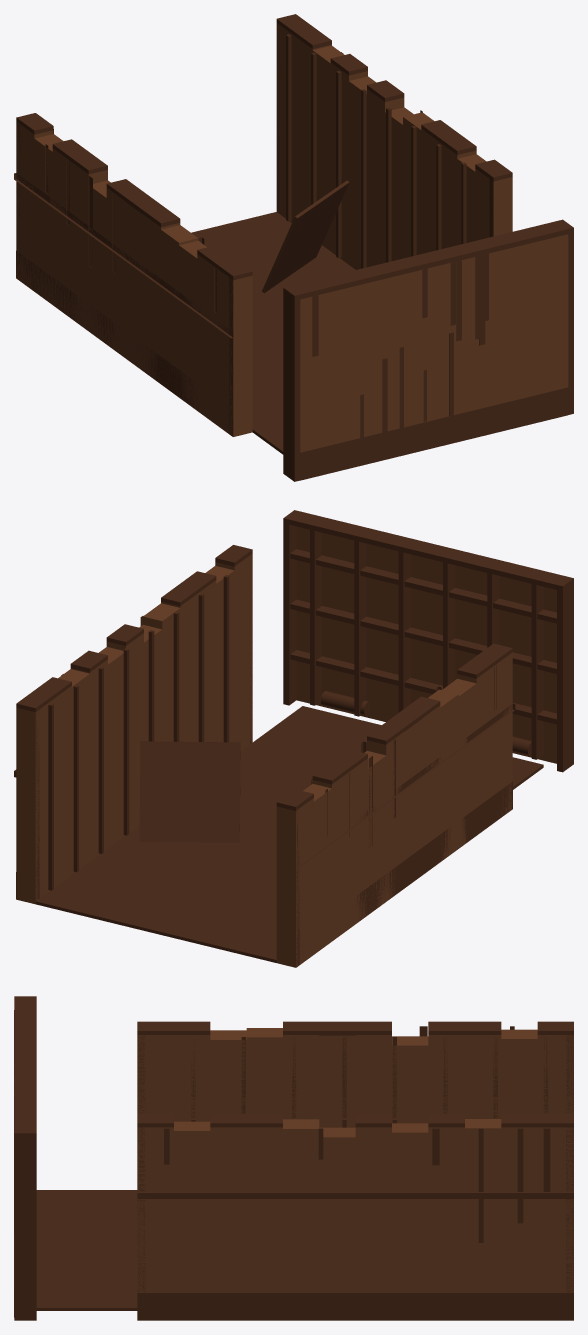
Rendered from landing_craft_wreck.glb.
3 views of the same model, one above another, from view 1: azimuth 30°, elevation 25°; view 2: azimuth 150°, elevation 25°; view 3: azimuth 270°, elevation 25° (orthographic).
Visible parts, largest first — view 1: landing_craft_wreck; view 2: landing_craft_wreck; view 3: landing_craft_wreck.
Part boxes in pixels (box(x1,y1,x2,y2)): landing_craft_wreck: box(14, 14, 573, 481); landing_craft_wreck: box(14, 510, 573, 967); landing_craft_wreck: box(14, 996, 573, 1320).
Size of the model in its own units: 5.9 by 3.89 by 10.01.
